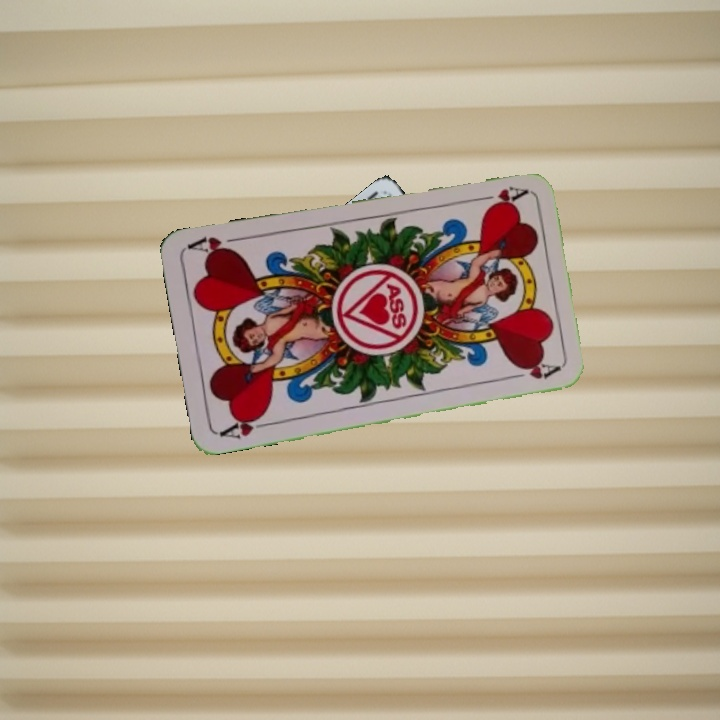HA: (215, 410, 274, 441), (470, 182, 529, 211)
